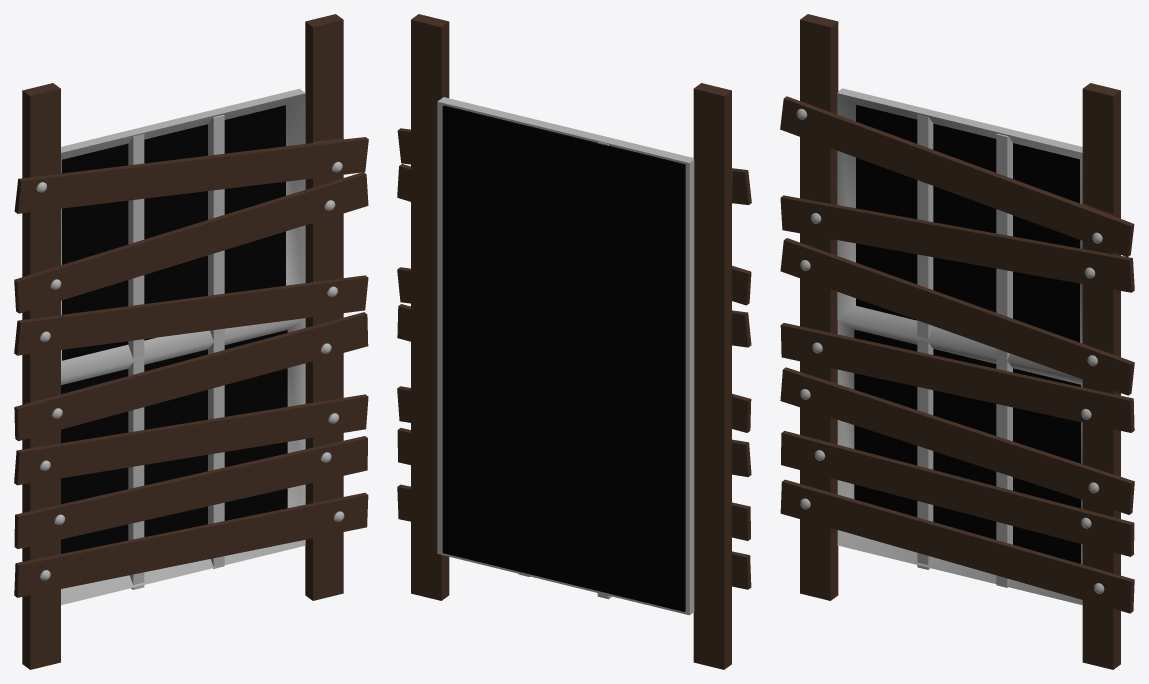
Rendered from BarredWindow.fbx.
3 renders of one model, left to right at view 1: azimuth 30°, elevation 25°; view 2: azimuth 150°, elevation 25°; view 3: azimuth 330°, elevation 25°, orthographic.
Visible parts, largest first — view 1: polySurface11; view 2: polySurface11; view 3: polySurface11.
Part boxes in pixels (left/top/right/bottom): polySurface11: left=14, top=14, right=368, bottom=669; polySurface11: left=397, top=14, right=751, bottom=669; polySurface11: left=780, top=14, right=1134, bottom=669.
Bounding box in the file's own units: 2.54 × 3.97 × 0.266.
